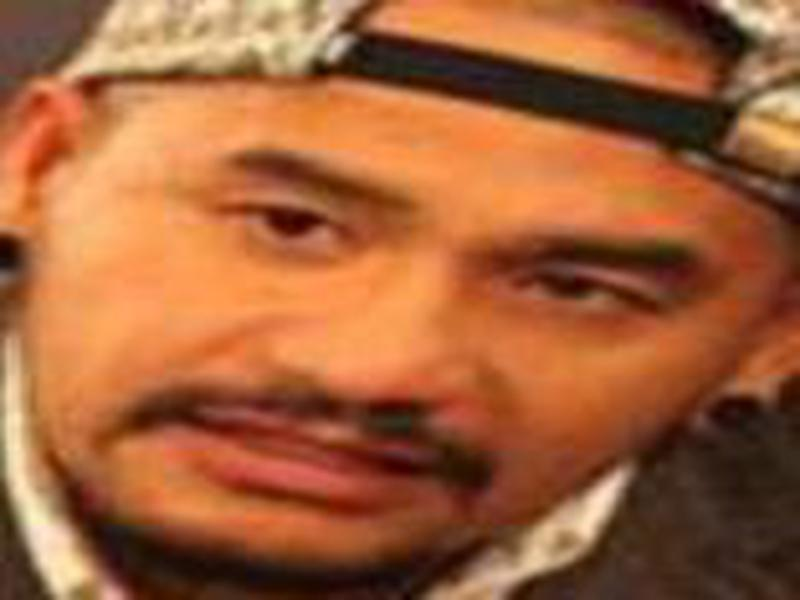without_mask: (29, 72, 746, 561)
